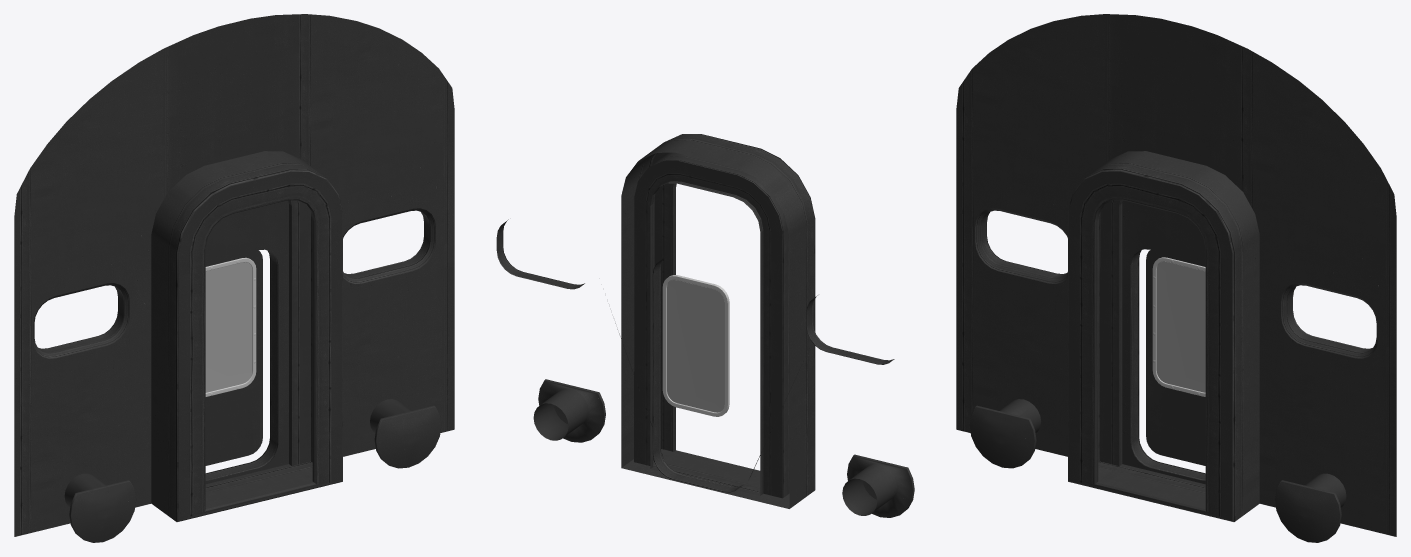
The model's file is TrainCarriageExterior.fbx.
The picture shows the model from 3 angles, left to right: view 1: azimuth 30°, elevation 25°; view 2: azimuth 150°, elevation 25°; view 3: azimuth 330°, elevation 25°; orthographic projection.
Parts seen in each view (by area): view 1: TrainCarriageExterior, TrainCarriageExteriorDetails, DoorGlass, DoorWoodAlt, DoorWood; view 2: TrainCarriageExteriorDetails, DoorGlass, TrainCarriageExterior, DoorWood; view 3: TrainCarriageExterior, TrainCarriageExteriorDetails, DoorGlass, DoorWoodAlt, DoorWood.
Boxes of the visible parts, <box> form: TrainCarriageExterior: <box>14,14,454,536</box>; TrainCarriageExteriorDetails: <box>64,151,441,542</box>; DoorGlass: <box>205,262,252,392</box>; DoorWoodAlt: <box>205,250,262,465</box>; DoorWood: <box>205,257,256,396</box>; TrainCarriageExteriorDetails: <box>533,134,914,517</box>; DoorGlass: <box>667,280,724,412</box>; TrainCarriageExterior: <box>496,219,894,492</box>; DoorWood: <box>662,275,729,416</box>; TrainCarriageExterior: <box>956,14,1396,536</box>; TrainCarriageExteriorDetails: <box>969,151,1346,542</box>; DoorGlass: <box>1156,261,1205,392</box>; DoorWoodAlt: <box>1146,250,1205,465</box>; DoorWood: <box>1152,257,1205,396</box>.
Bounding box in the file's own units: 4.05 × 4.1 × 0.5928.
